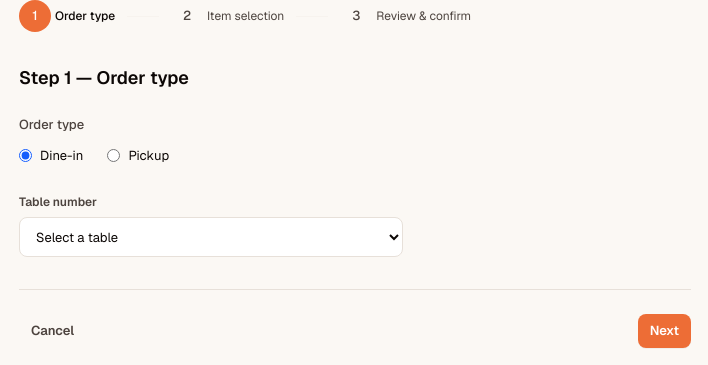
Test: OrderWizard › selecting dine-in reveals configured tables
Click the radio button labelled "Pickup": (114, 156) x1=107 y1=149 x2=120 y2=162
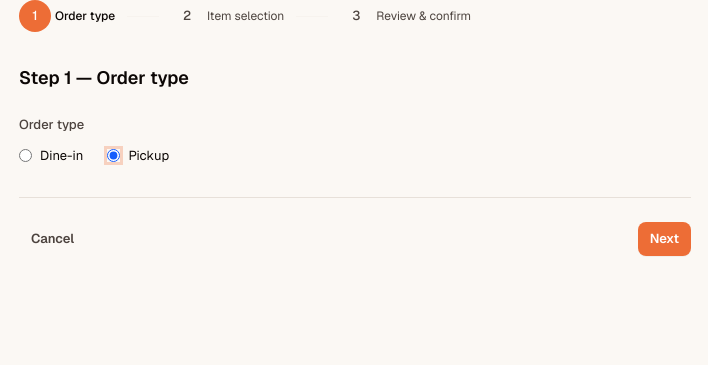
Expected: the label labelled "Table number" is gone
Click the radio button labelled "Dine-in": (26, 156) x1=19 y1=149 x2=32 y2=162
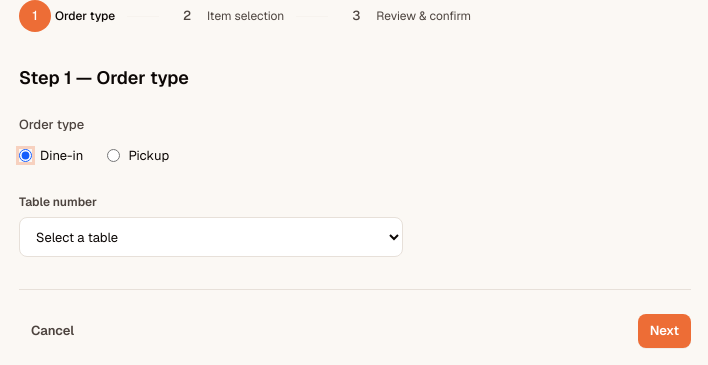
Expected: the dropdown labelled "Table number" is shown, x1=19 y1=217 x2=403 y2=257
